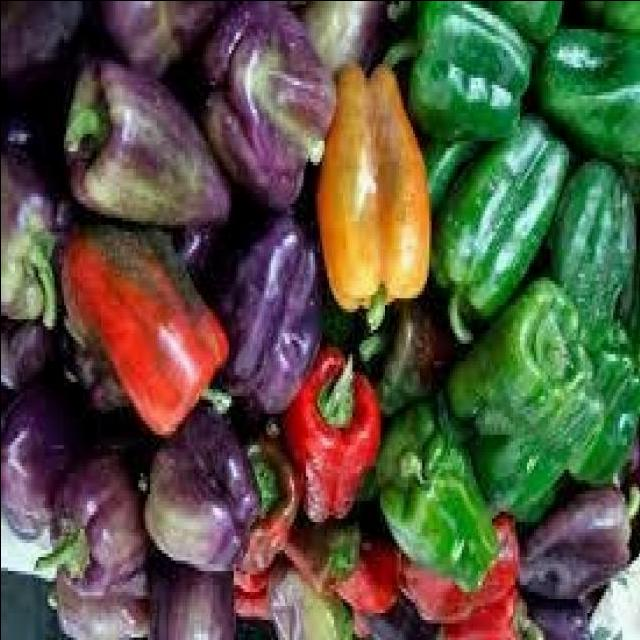bell_pepper: (423, 114, 579, 328), (366, 393, 504, 592), (377, 10, 543, 146)
